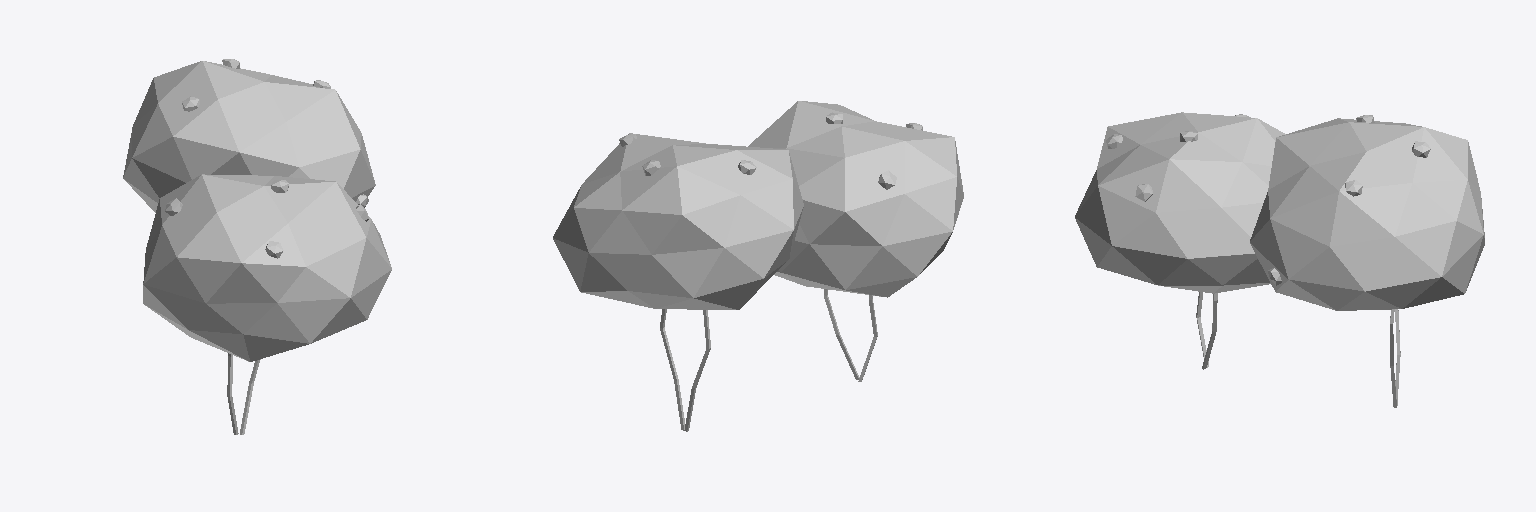
Rendered from bush3.obj.
3 renders of one model, left to right at view 1: azimuth 30°, elevation 25°; view 2: azimuth 150°, elevation 25°; view 3: azimuth 270°, elevation 25°, orthographic.
Visible parts, largest first — view 1: Bush_10_Cube.009; view 2: Bush_10_Cube.009; view 3: Bush_10_Cube.009.
Boxes of the visible parts, x1,y1,x2,y2 form: Bush_10_Cube.009: [123, 59, 391, 434]; Bush_10_Cube.009: [553, 101, 963, 431]; Bush_10_Cube.009: [1075, 112, 1484, 407].
Size of the model in its own units: 0.9166 by 0.8122 by 1.1.